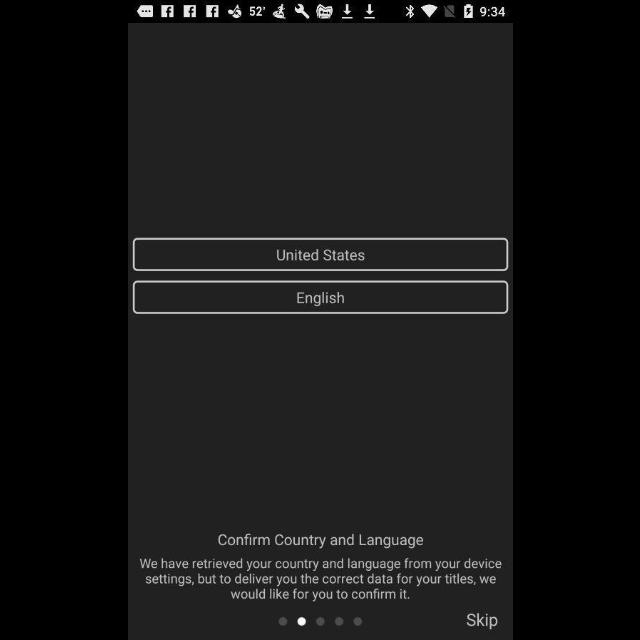pageindicator: (276, 616, 362, 628)
text: (140, 557, 502, 601), (217, 534, 423, 550), (465, 612, 497, 630)
textbutton: (132, 238, 508, 272), (132, 281, 508, 315)
uppertaskbar: (128, 1, 512, 23)
